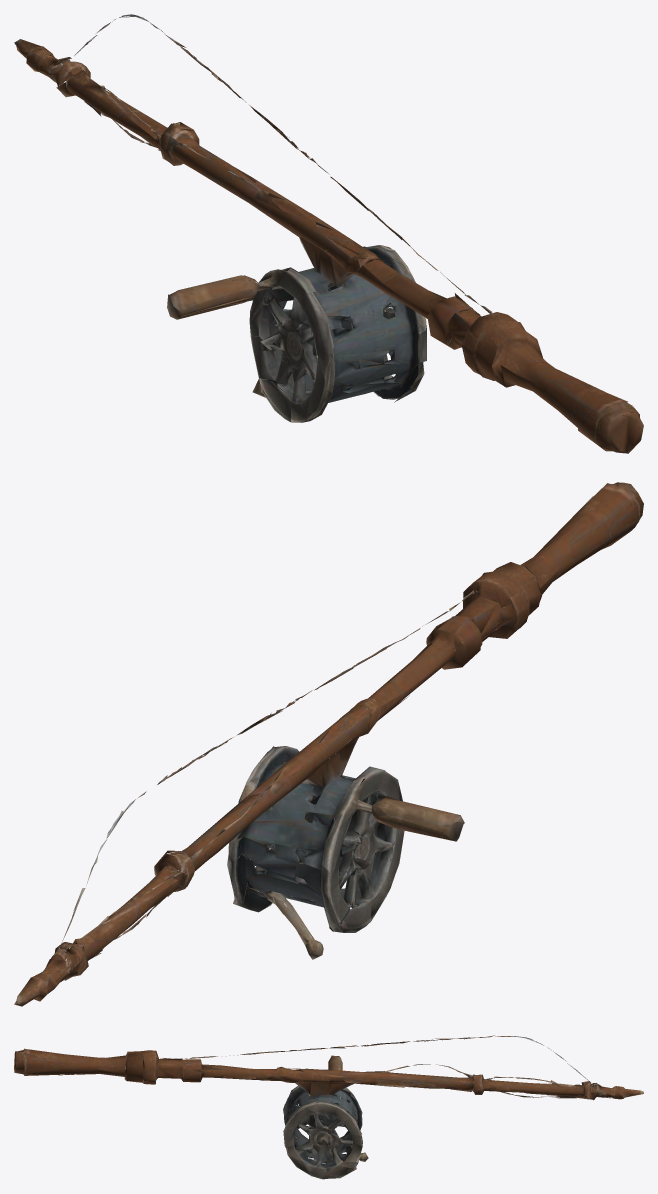
File: fishing_rod.glb
The picture shows the model from 3 angles, top to bottom: view 1: azimuth 30°, elevation 25°; view 2: azimuth 150°, elevation 25°; view 3: azimuth 270°, elevation 25°; orthographic projection. The views are drawn at different scales.
Parts seen in each view (by area): view 1: fishing_rod; view 2: fishing_rod; view 3: fishing_rod.
Boxes of the visible parts, left/top/right/bottom form: fishing_rod: left=14, top=14, right=643, bottom=453; fishing_rod: left=14, top=482, right=643, bottom=1006; fishing_rod: left=14, top=1035, right=643, bottom=1179.
Bounding box in the file's own units: 0.3578 × 0.4232 × 1.8.
Materials: 1 (1 with a texture image).
